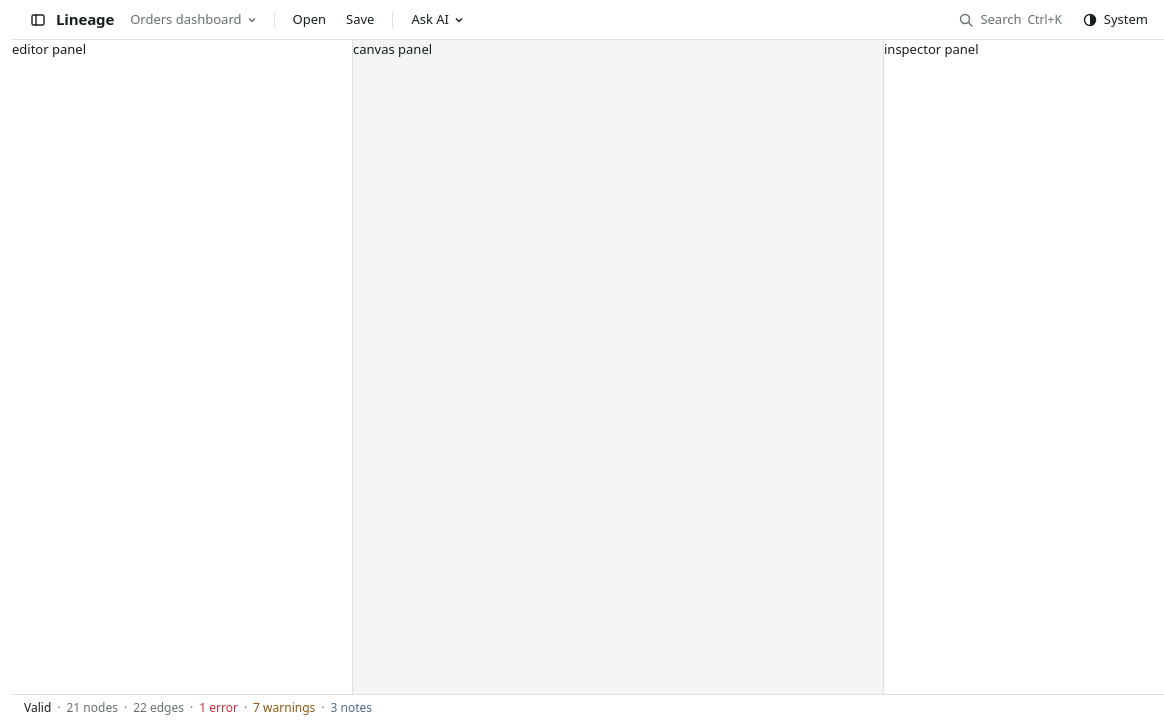
Scenario: top bar › collapses and restores the editor panel
The image size is (1164, 720).
Step 1. Click the button named "YAML editor" → [38, 20], box left=24, top=6, right=52, bottom=34
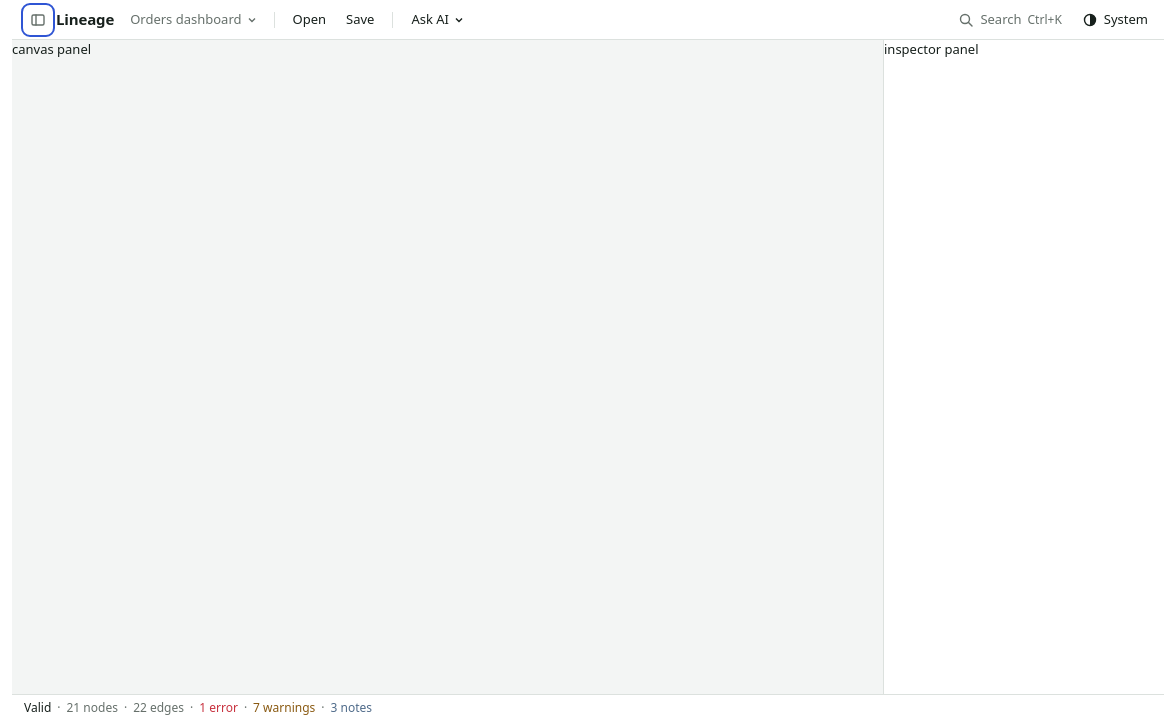
Now the text "editor panel" is gone
Step 2. Type keys "{Control>}e{/Control}"
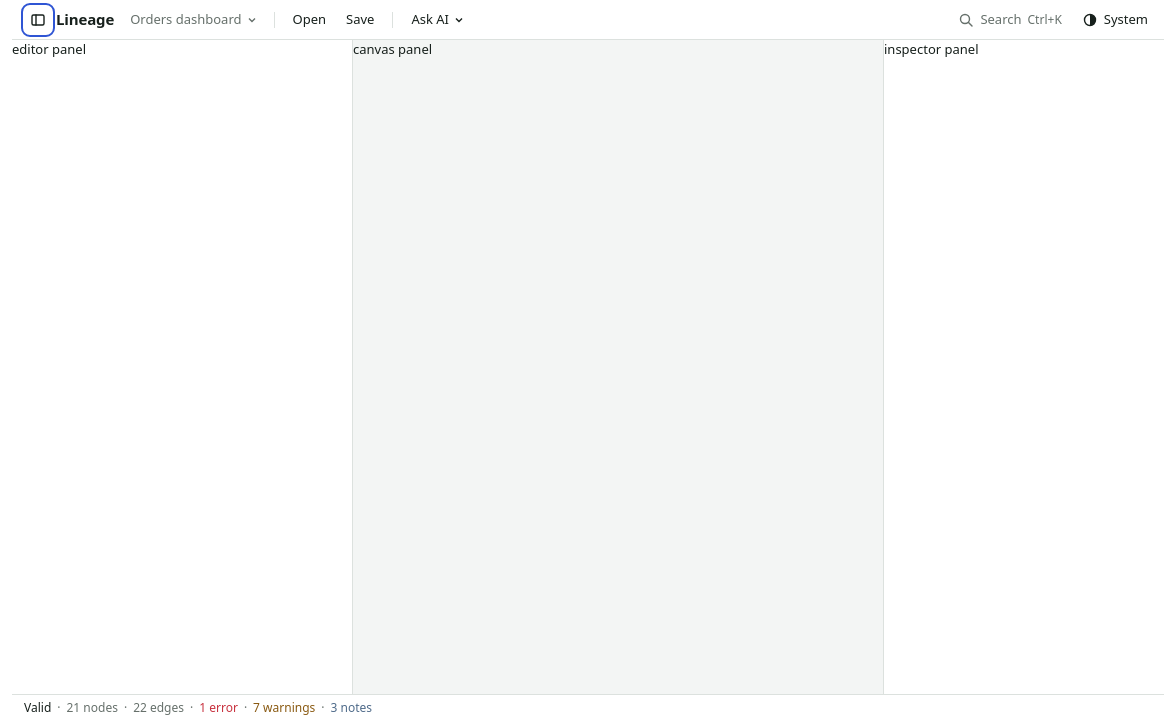
Now the text "editor panel" is shown, box left=12, top=40, right=86, bottom=58
